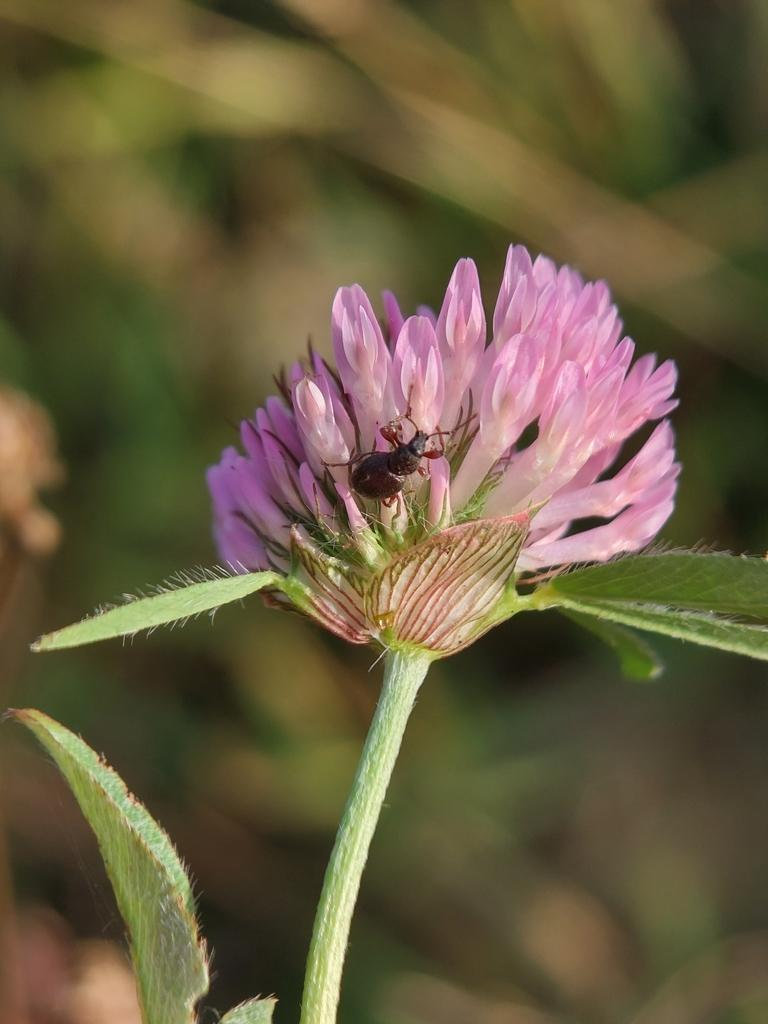weevils: (300, 379, 496, 540)
